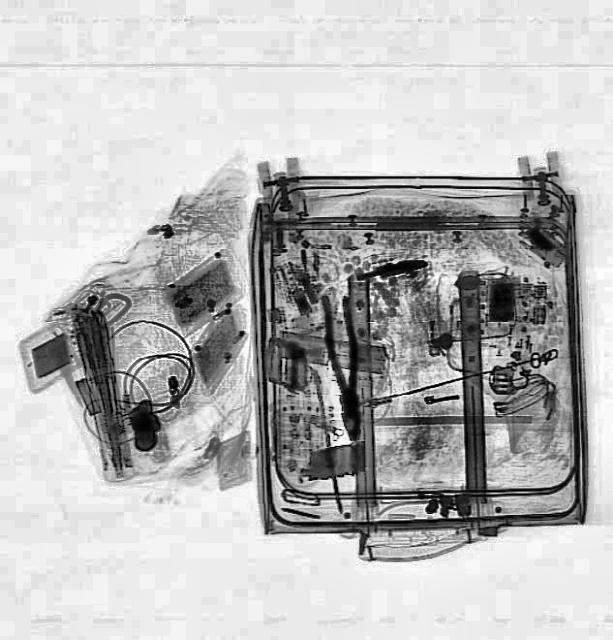Pliers: (317, 290, 370, 438)
